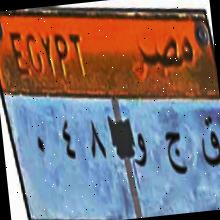0: (32, 132, 47, 157)
4: (56, 116, 79, 168)
8: (82, 111, 109, 170)
jeem: (160, 124, 188, 180)
qaaf: (197, 110, 220, 172)
waw: (130, 130, 152, 172)
